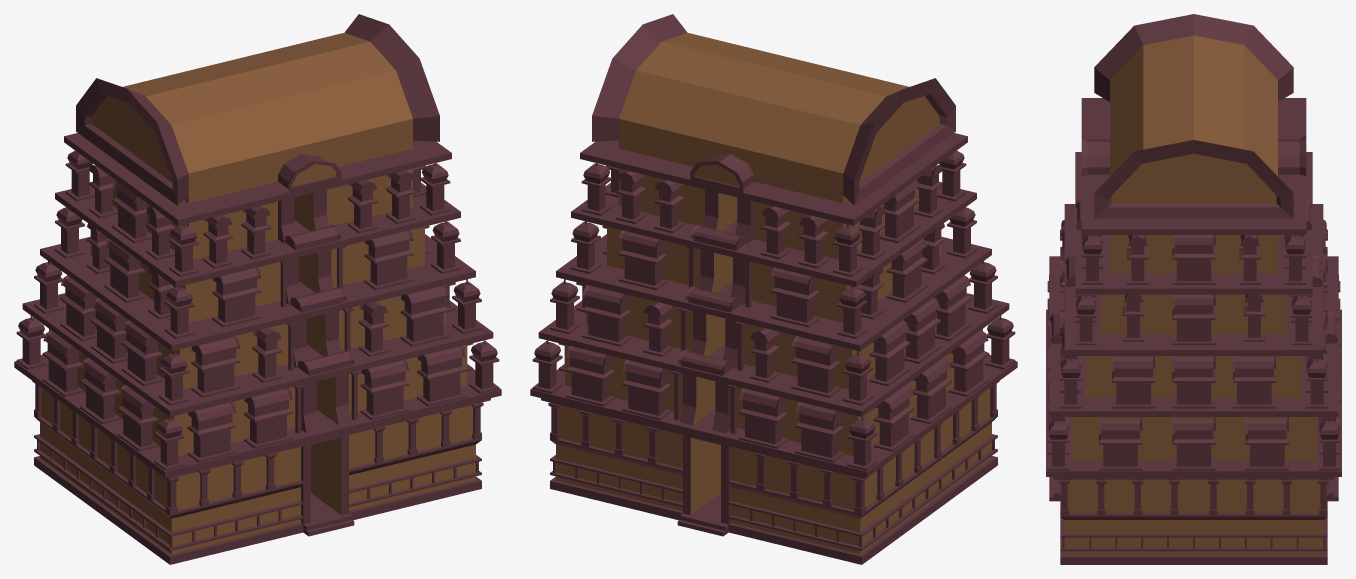
File: temple-gopuram.fbx
The picture shows the model from 3 angles, left to right: view 1: azimuth 30°, elevation 25°; view 2: azimuth 150°, elevation 25°; view 3: azimuth 270°, elevation 25°; orthographic projection.
Visible parts, largest first — view 1: temple-gopuram; view 2: temple-gopuram; view 3: temple-gopuram.
Part boxes in pixels (box(x1,y1,x2,y2)): temple-gopuram: box(14, 14, 501, 564); temple-gopuram: box(530, 14, 1017, 564); temple-gopuram: box(1046, 14, 1341, 564).
Size of the model in its own units: 17.71 by 21.13 by 13.71.
